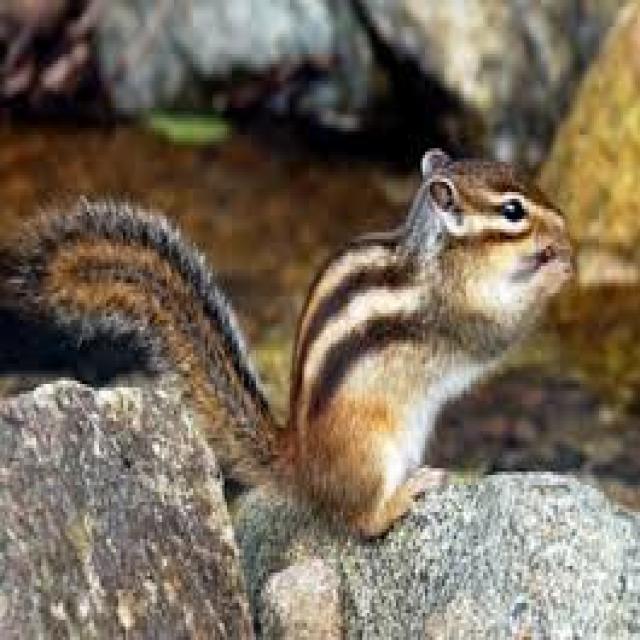squirrel: (0, 145, 577, 539)
